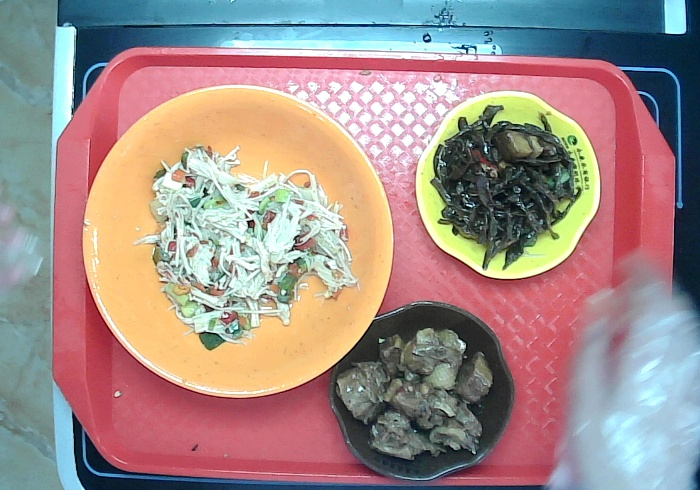YKMZ-Huang_Se_Ao_Bian_Wan: (416, 91, 602, 281)
YKMZ-Ju_Se_Tang_Wan: (80, 85, 395, 398)
YKMZ-Ka_Fei_Ao_Bian_Wan: (328, 298, 516, 482)
